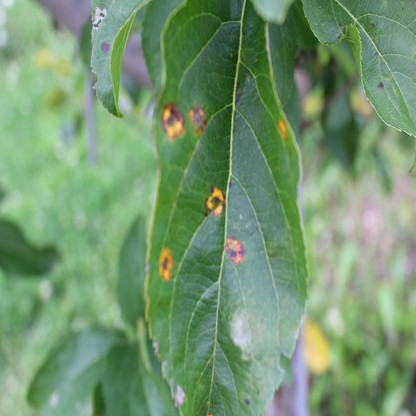rust: (162, 102, 183, 137), (225, 237, 246, 264), (206, 186, 224, 217), (189, 106, 207, 136), (160, 246, 171, 277), (277, 121, 288, 141)
